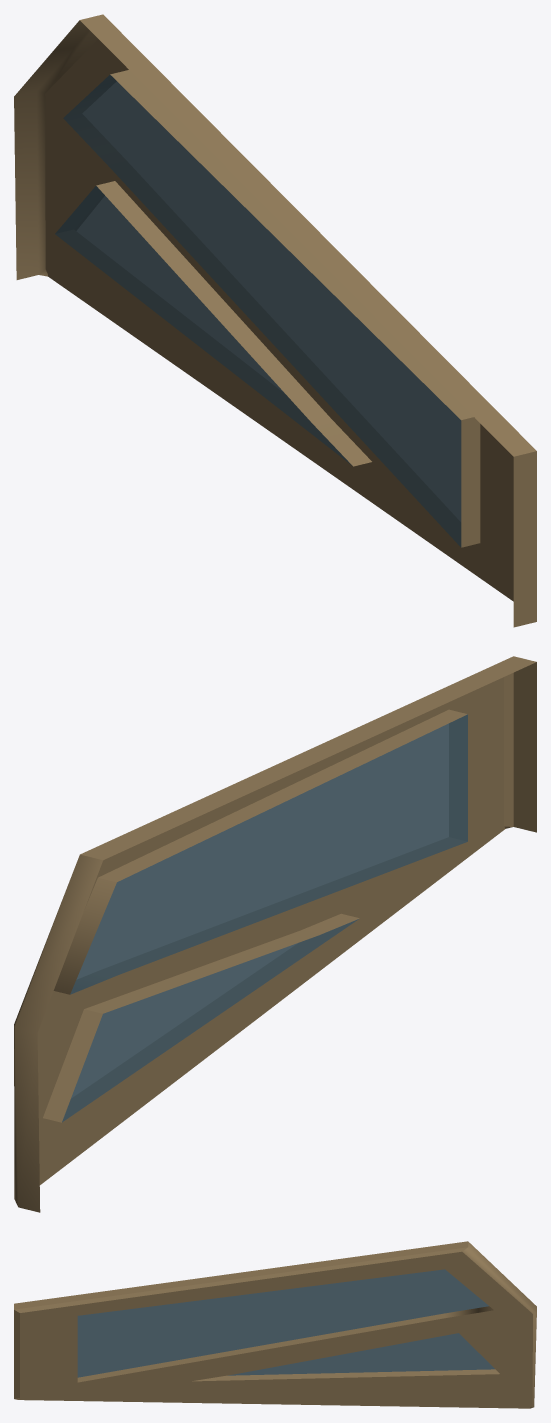
Rendered from BO_FrameBarrier_02.fbx.
3 renders of one model, top to bottom at view 1: azimuth 30°, elevation 25°; view 2: azimuth 150°, elevation 25°; view 3: azimuth 270°, elevation 25°, orthographic. The views are drawn at different scales.
Parts seen in each view (by area): view 1: BO_FrameBarrier_02; view 2: BO_FrameBarrier_02; view 3: BO_FrameBarrier_02.
Part boxes in pixels (box(x1,y1,x2,y2)): BO_FrameBarrier_02: box(14, 14, 536, 627); BO_FrameBarrier_02: box(14, 656, 536, 1212); BO_FrameBarrier_02: box(14, 1241, 536, 1408).
Bounding box in the file's own units: 77.96 × 834 × 2464.
